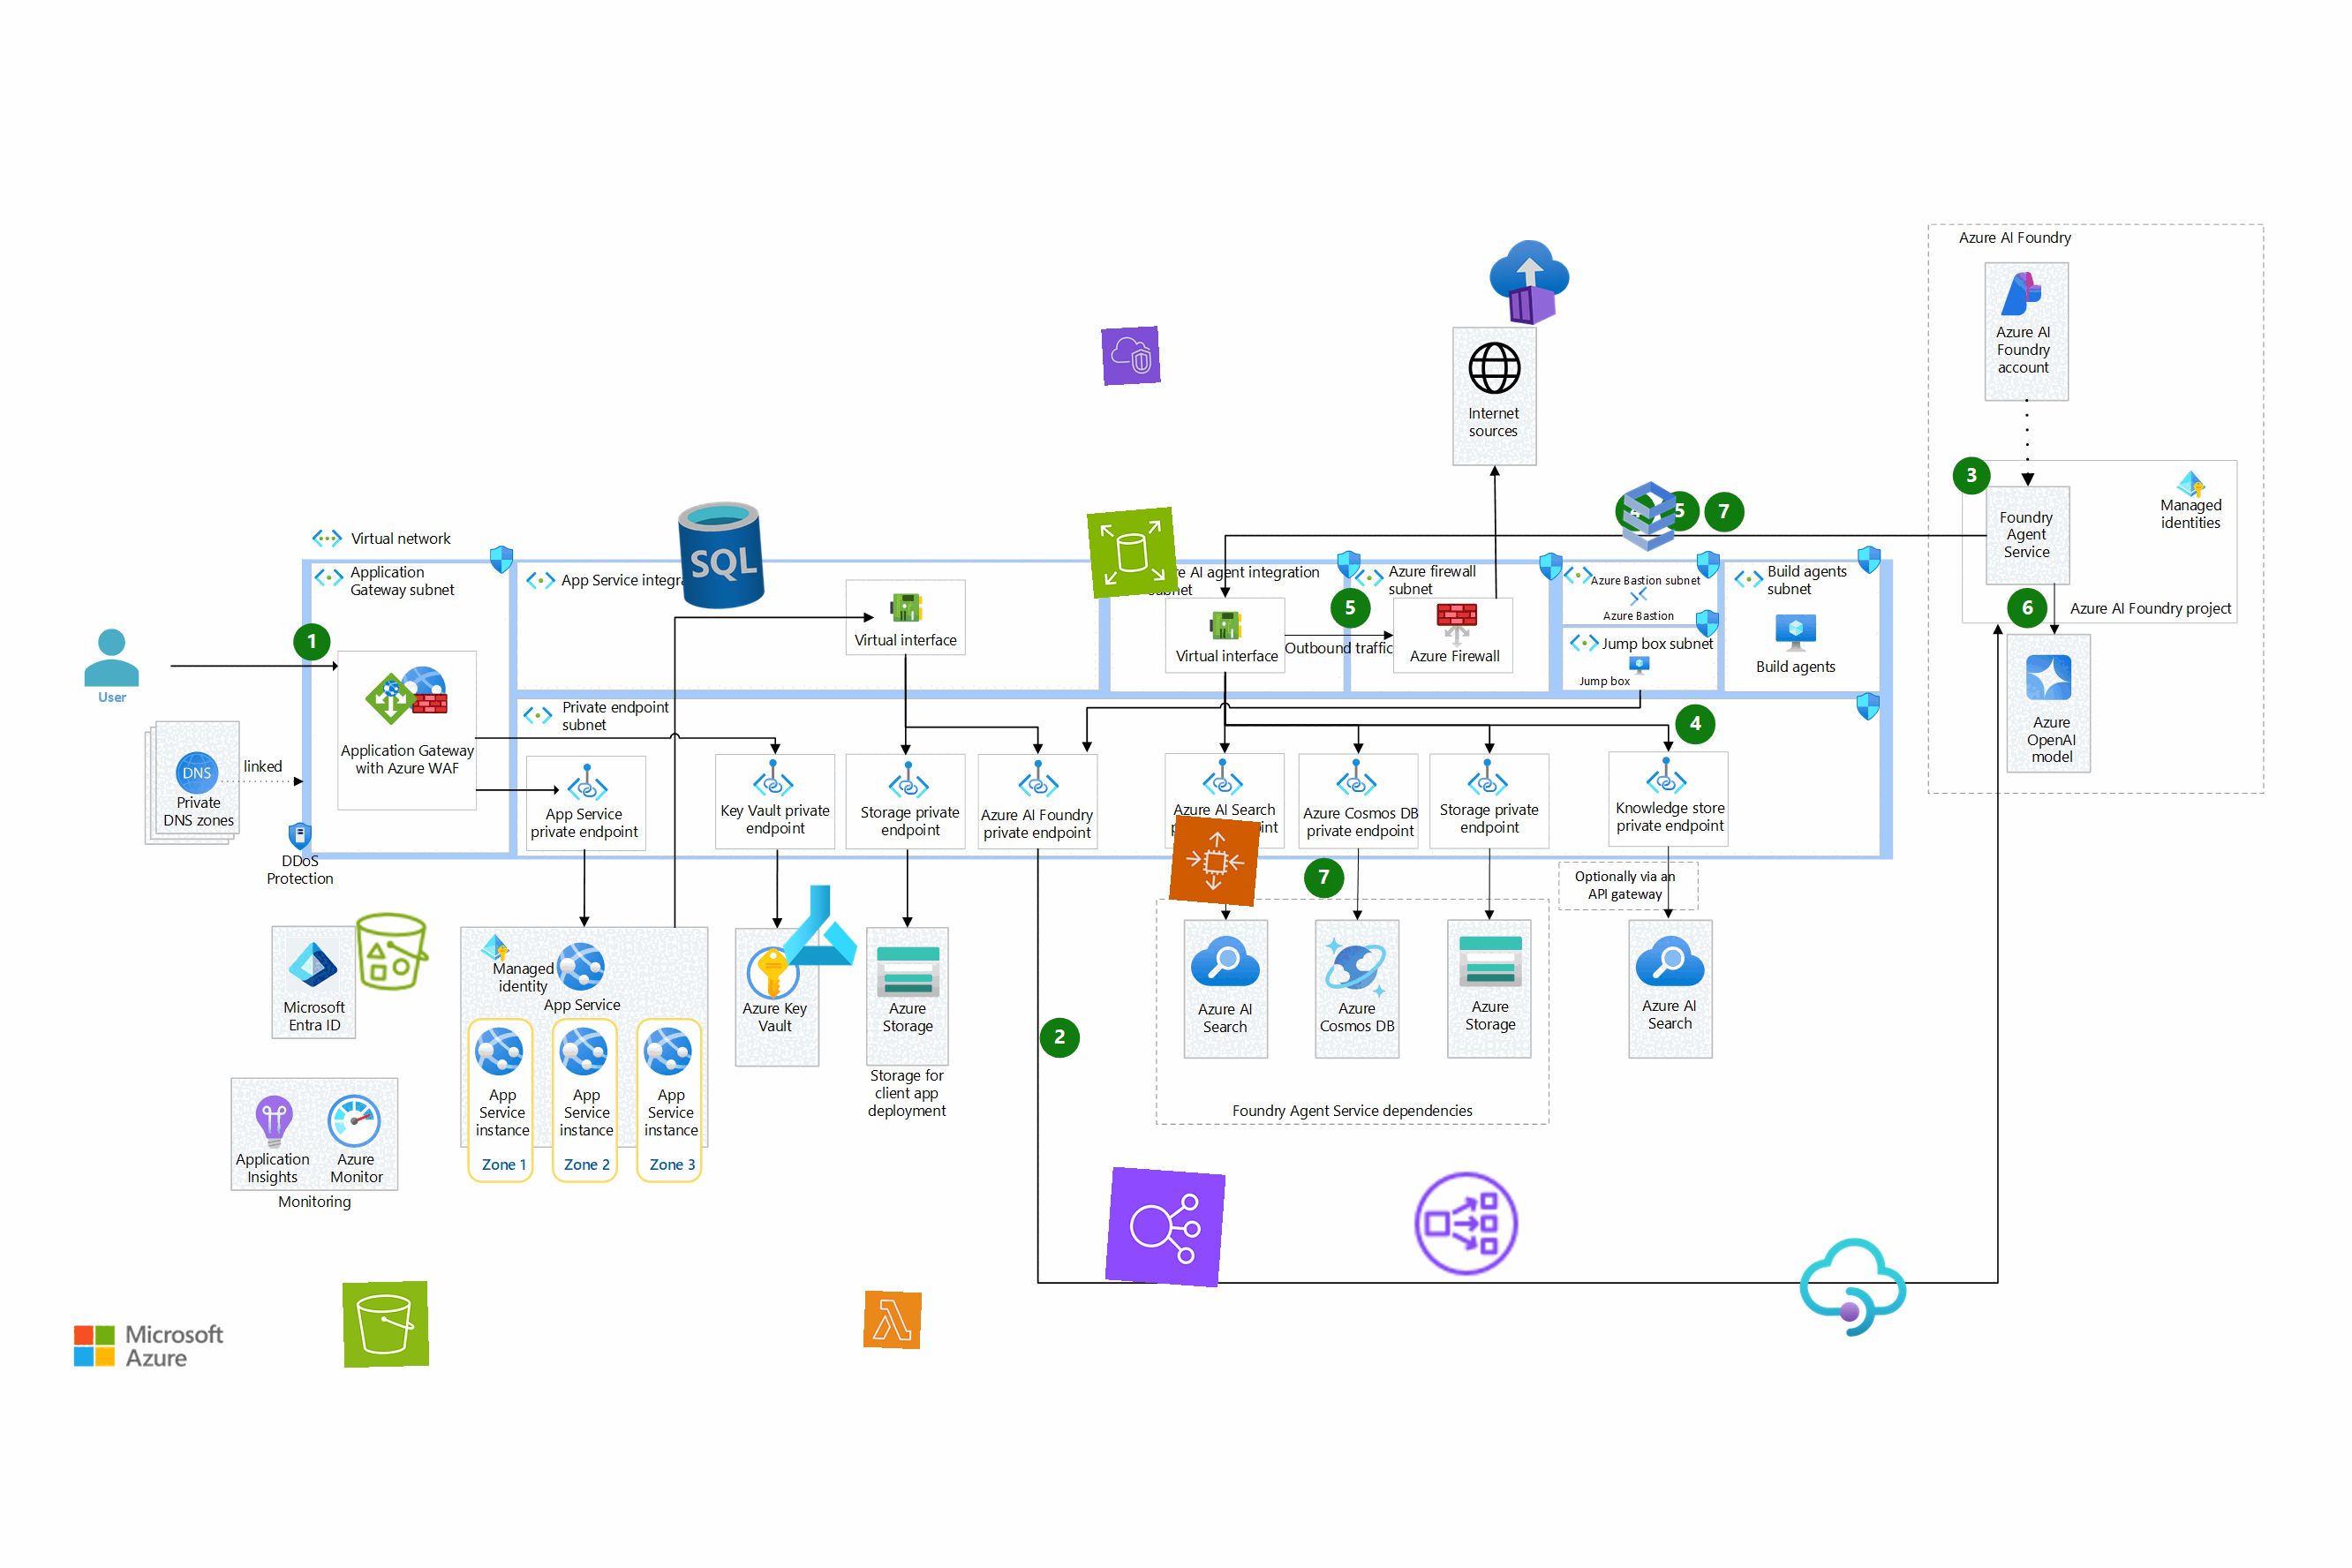aws_amazon_ec2_auto_scaling: (1169, 815, 1260, 906)
aws_amazon_elastic_block_store: (1087, 507, 1179, 598)
aws_amazon_simple_storage_service: (341, 1281, 430, 1368)
aws_amazon_virtual_private_cloud: (1101, 325, 1160, 385)
aws_elastic_load_balancing: (1104, 1165, 1227, 1288)
aws_elastic_load_balancing_network_load_balancer: (1409, 1165, 1524, 1281)
aws_lambda: (863, 1290, 922, 1349)
aws_simple_storage_service_bucket_with_objects: (346, 906, 437, 998)
azure_api_management_services: (1795, 1230, 1911, 1344)
azure_container_instances: (1484, 236, 1577, 329)
azure_machine_learning: (777, 882, 863, 968)
azure_sql_database: (660, 495, 782, 616)
gcp_cloud_sql: (1605, 471, 1694, 562)
